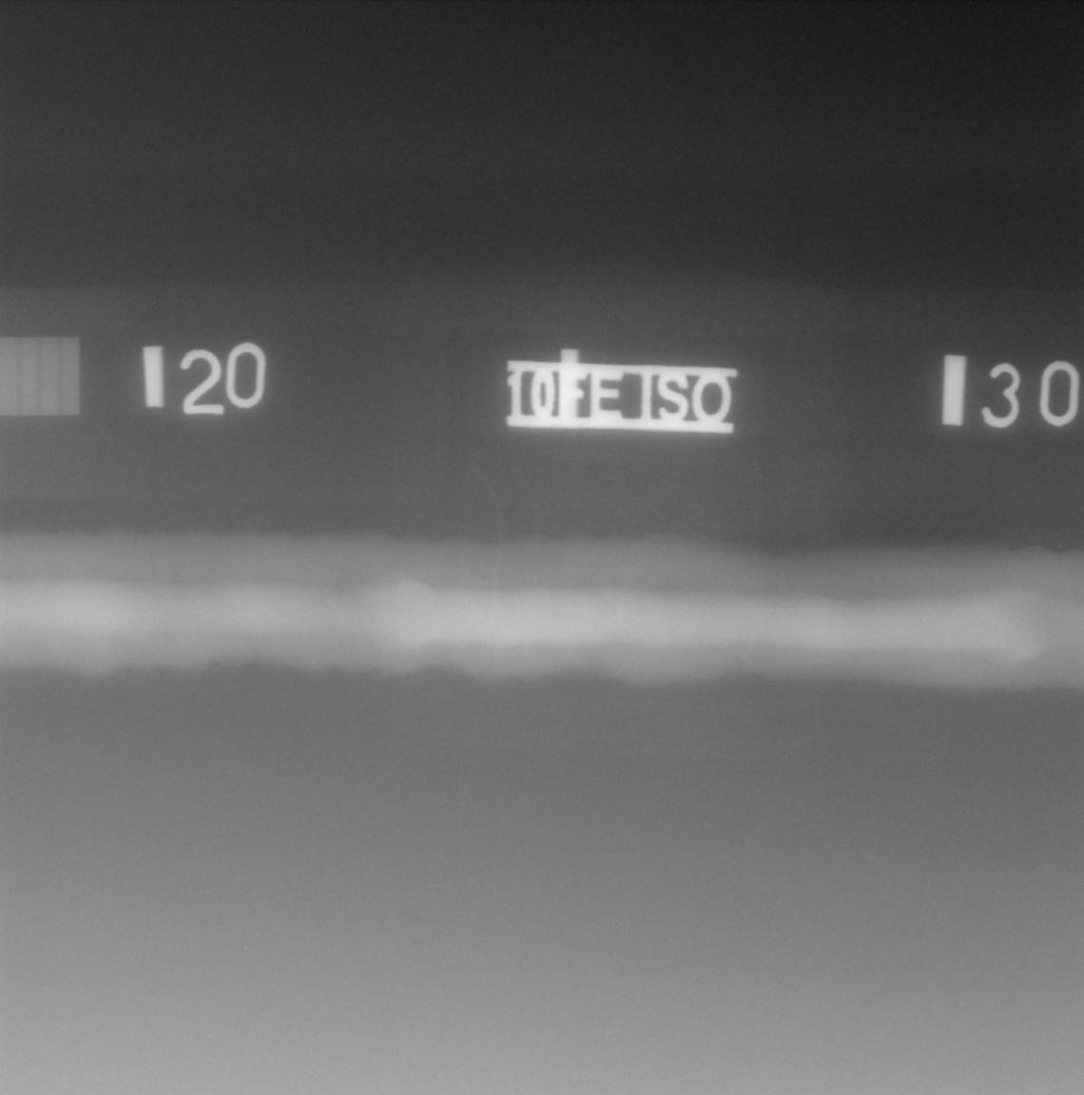Pore/Porosity: (482, 576, 488, 580)
